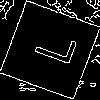L: (24, 25, 78, 68)
